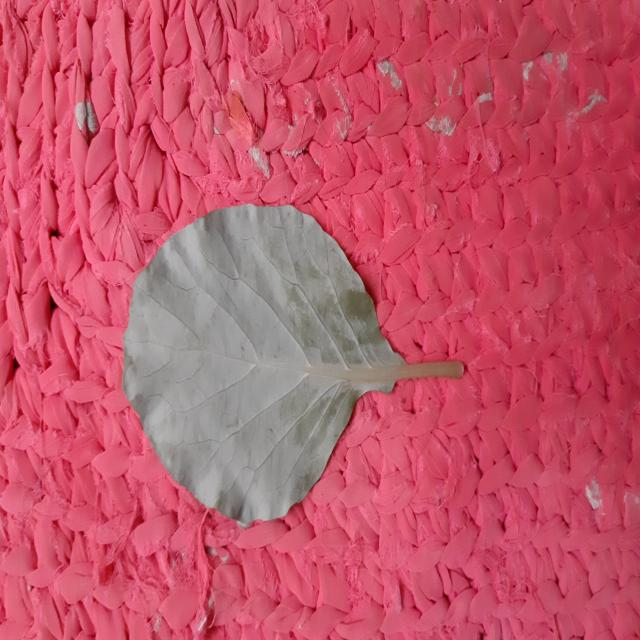Kohlrabi: (122, 204, 440, 524)
